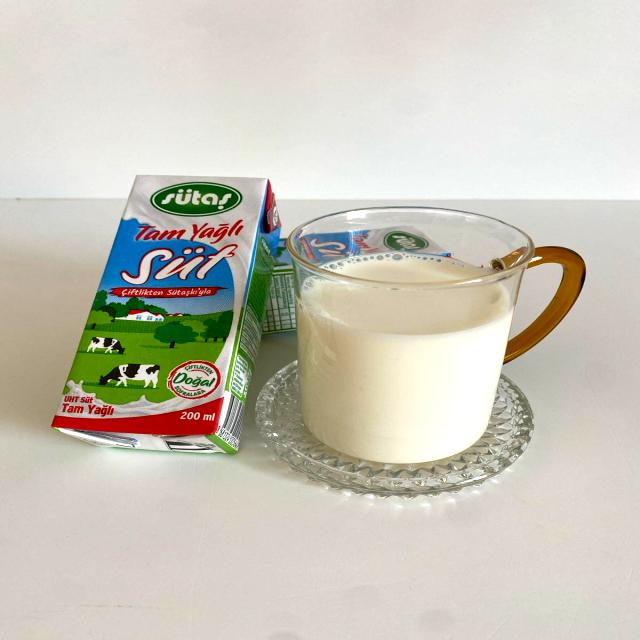milk: (45, 173, 284, 448), (298, 244, 538, 464)
